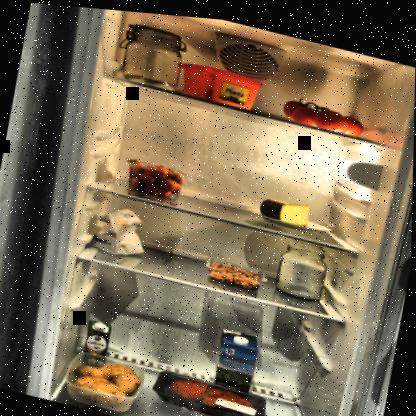beef: (150, 363, 272, 415)
butter: (174, 54, 265, 109)
cheese: (258, 187, 315, 224)
heavy_cream: (82, 316, 113, 366)
milk: (211, 320, 263, 398)
potato: (66, 345, 150, 415)
shrimp: (208, 255, 266, 286)
strawberries: (122, 152, 190, 201)
tomato: (279, 85, 370, 134)
